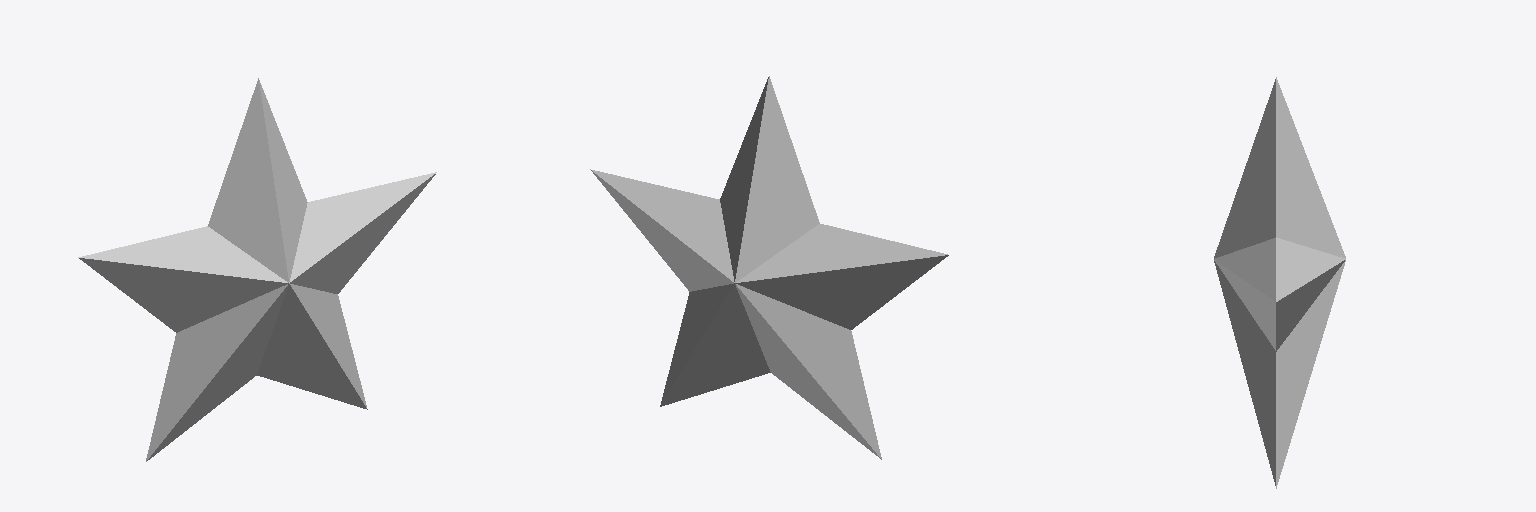
File: star.obj
The picture shows the model from 3 angles: view 1: azimuth 30°, elevation 25°; view 2: azimuth 150°, elevation 25°; view 3: azimuth 270°, elevation 25°; orthographic projection.
Visible parts, largest first — view 1: pCylinder1; view 2: pCylinder1; view 3: pCylinder1.
Boxes of the visible parts, x1,y1,x2,y2 form: pCylinder1: [78, 78, 436, 461]; pCylinder1: [590, 76, 948, 459]; pCylinder1: [1214, 77, 1345, 488].
Size of the model in its own units: 12.57 by 11.97 by 4.02.